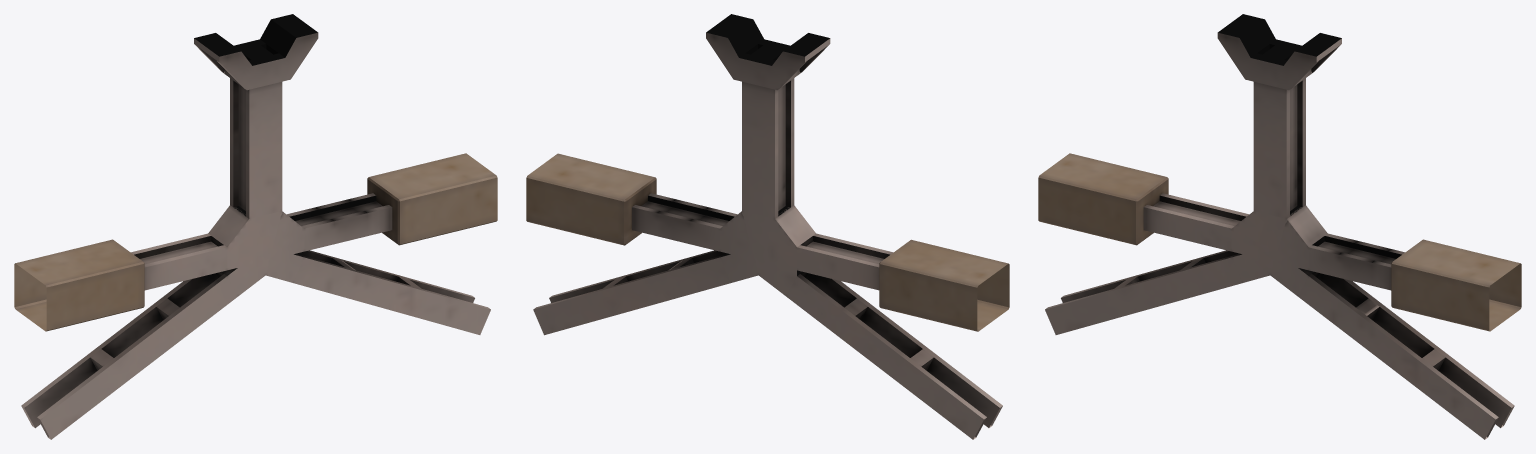
Rendered from general_beam_double_track_walkway_support.obj.
The picture shows the model from 3 angles, left to right: view 1: azimuth 30°, elevation 25°; view 2: azimuth 150°, elevation 25°; view 3: azimuth 330°, elevation 25°; orthographic projection.
Parts seen in each view (by area): view 1: general_beam_double_track_walkway_support; view 2: general_beam_double_track_walkway_support; view 3: general_beam_double_track_walkway_support.
Part boxes in pixels (<box>): general_beam_double_track_walkway_support: <box>14,14,497,439</box>; general_beam_double_track_walkway_support: <box>526,14,1009,439</box>; general_beam_double_track_walkway_support: <box>1038,14,1521,439</box>.
Bounding box in the file's own units: 2.56 × 1.88 × 0.3157.
Materials: 2 (2 with a texture image).
